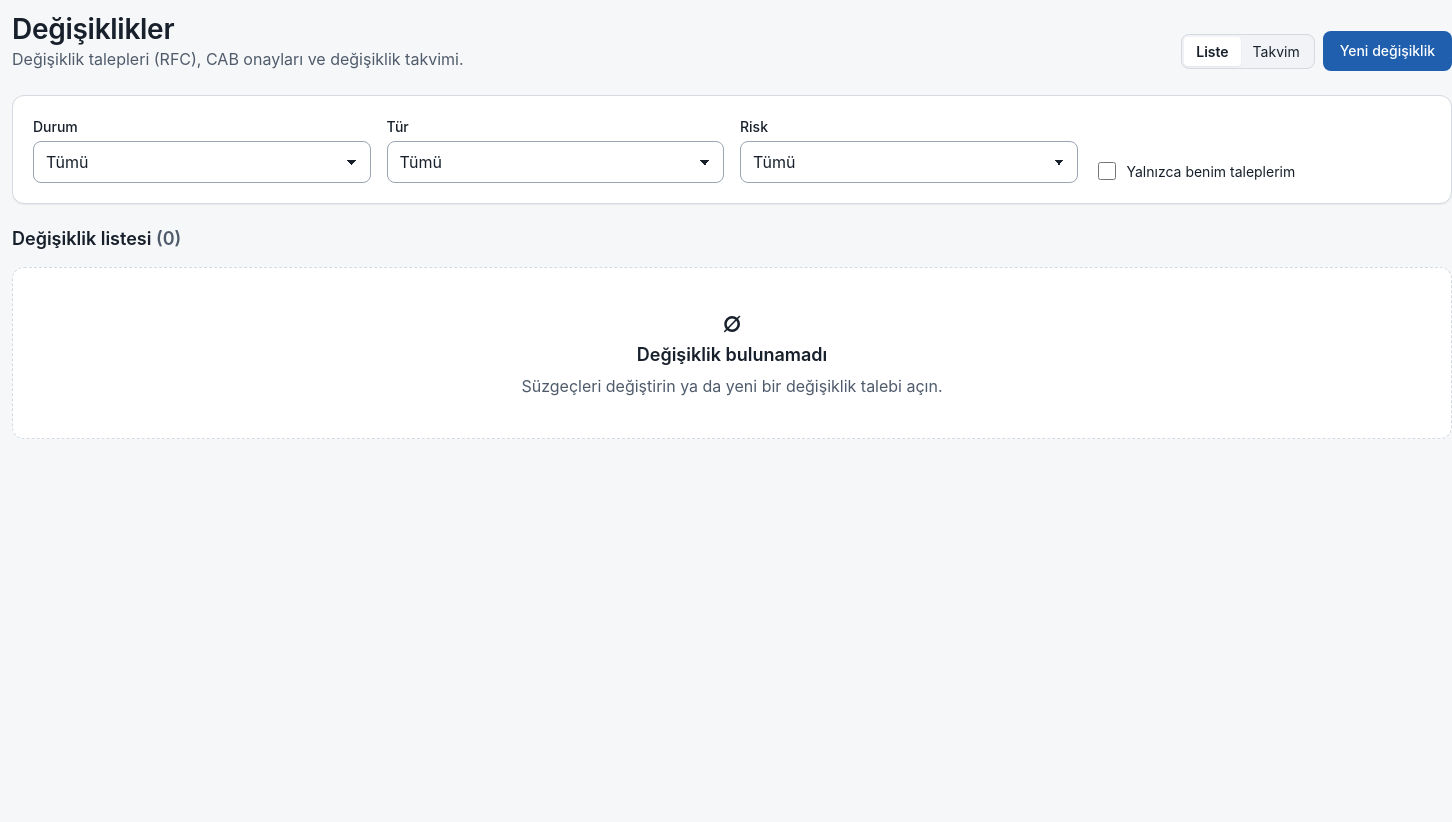
ChangeListPage — takvim › liste/takvim geçişi
This screenshot has width=1452, height=822.
What coordinates should you click on to do the following:
click the radio button labelled "Takvim"
I would click on:
 (1276, 51)
Its box is [1253, 42, 1300, 60].
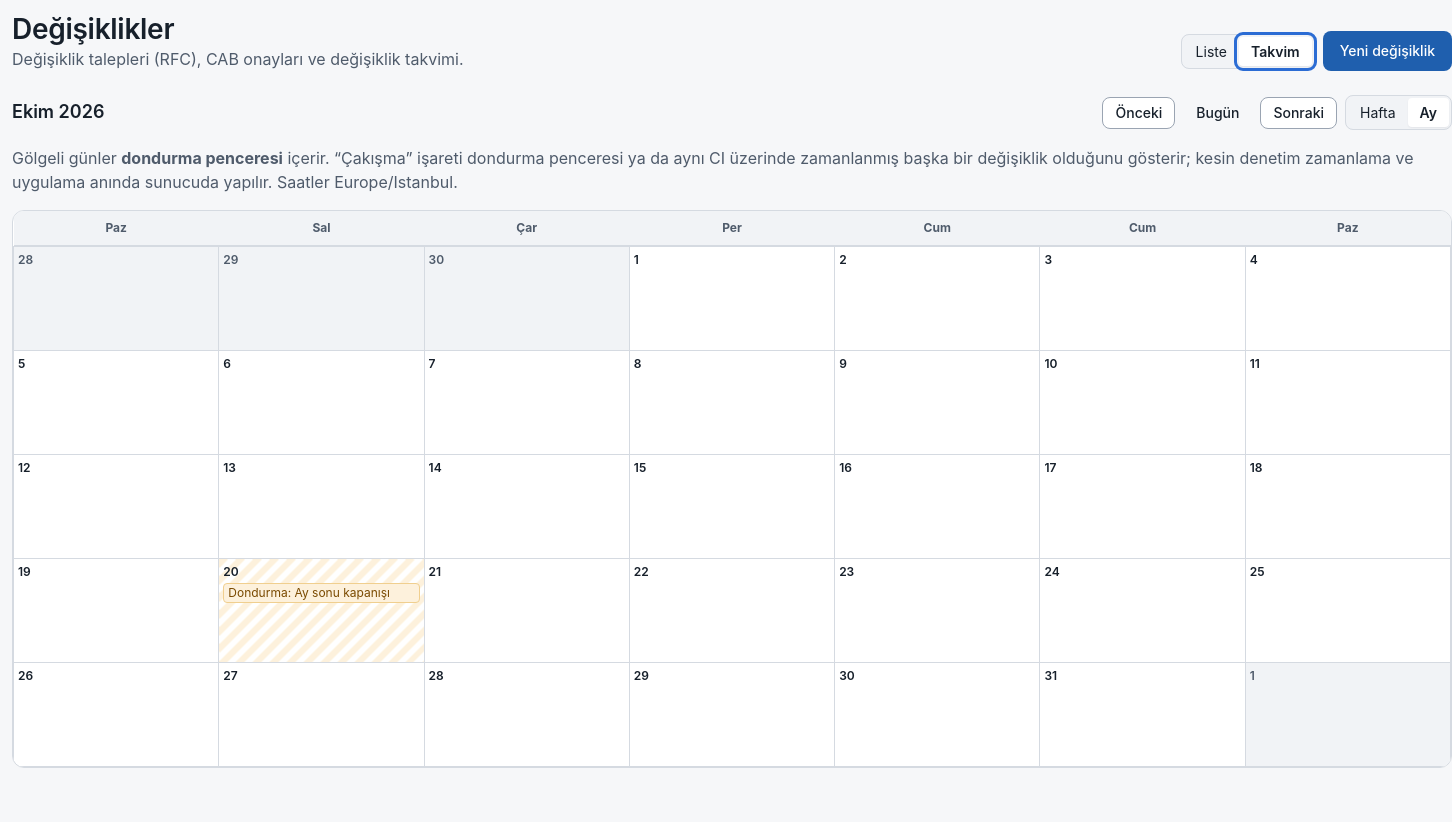
Check: the table named "Değişiklik takvimi" is shown
